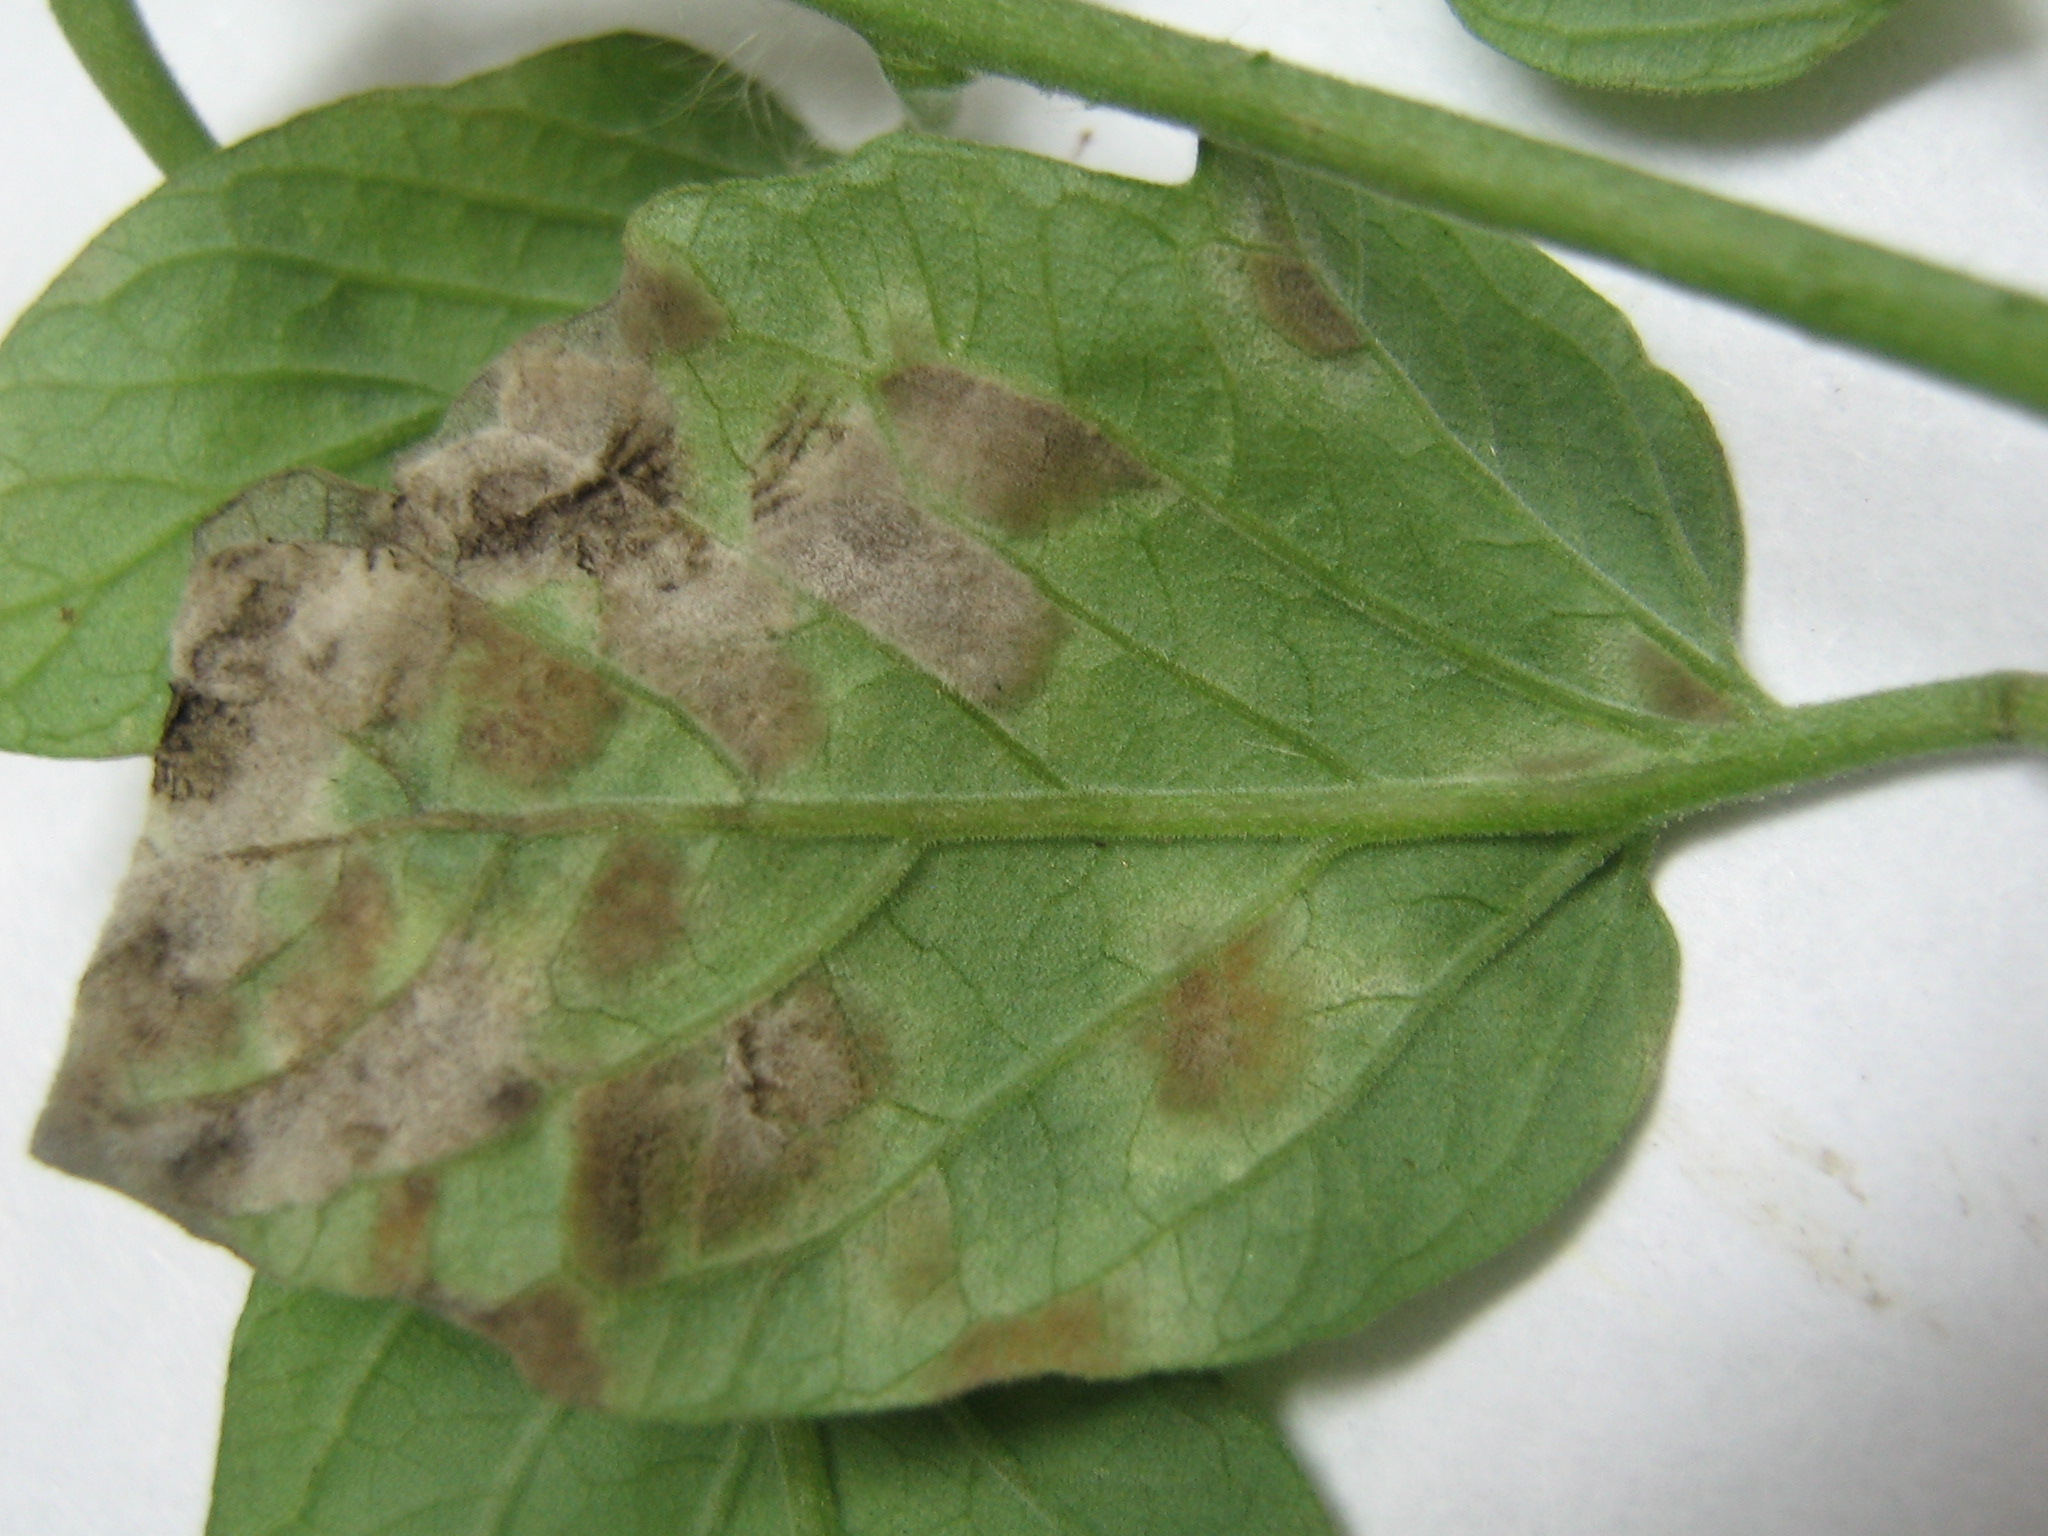negra: (560, 1013, 860, 1267), (868, 363, 1164, 531), (455, 629, 671, 807), (547, 837, 729, 1005), (1150, 939, 1305, 1128), (269, 873, 410, 1036), (959, 1284, 1206, 1367)
